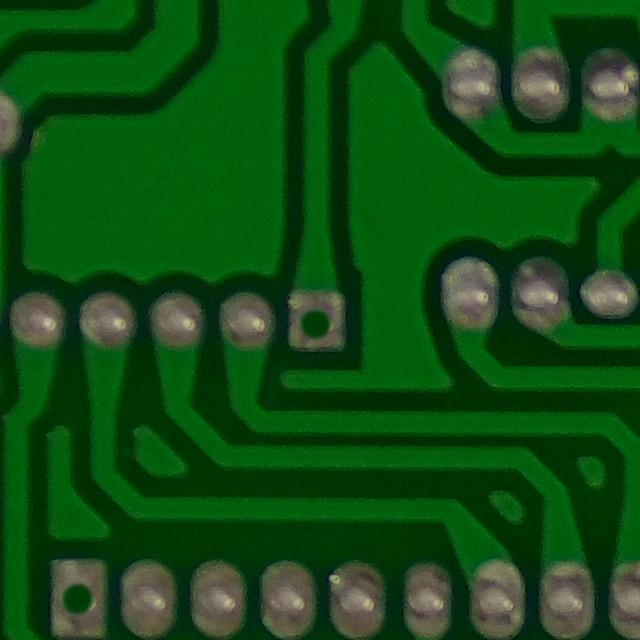missing_hole: (281, 283, 359, 357)
